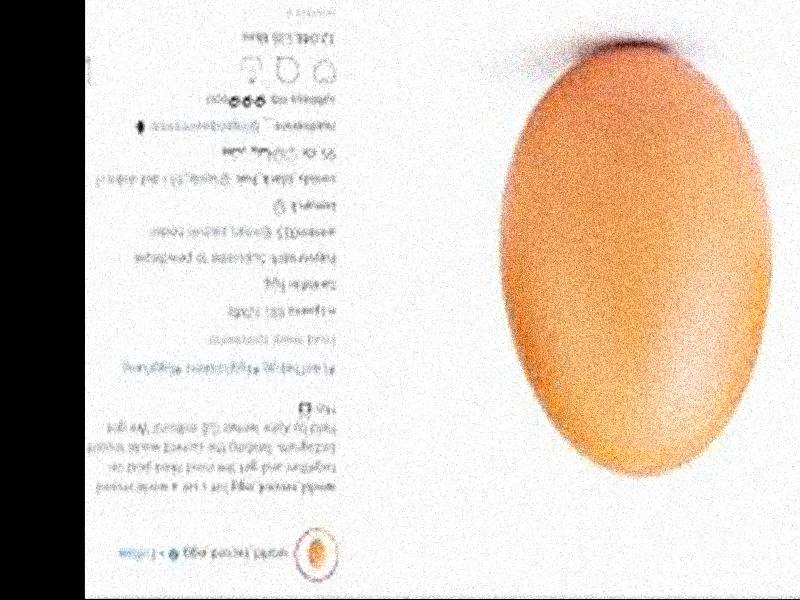Eggs: (501, 49, 774, 476)
